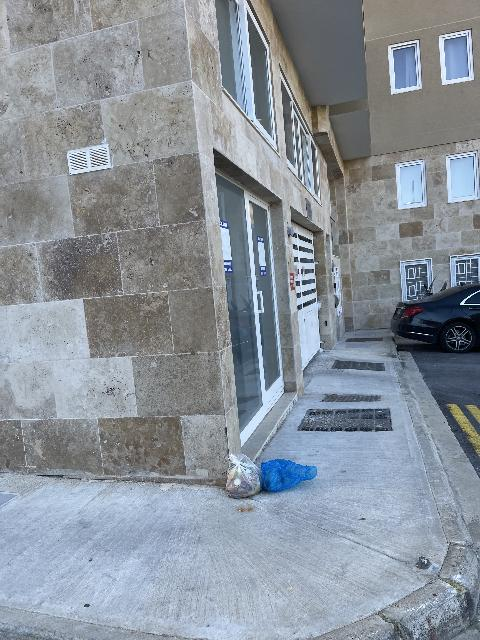Organic -White-: (226, 454, 262, 498)
Other: (261, 459, 317, 492)
